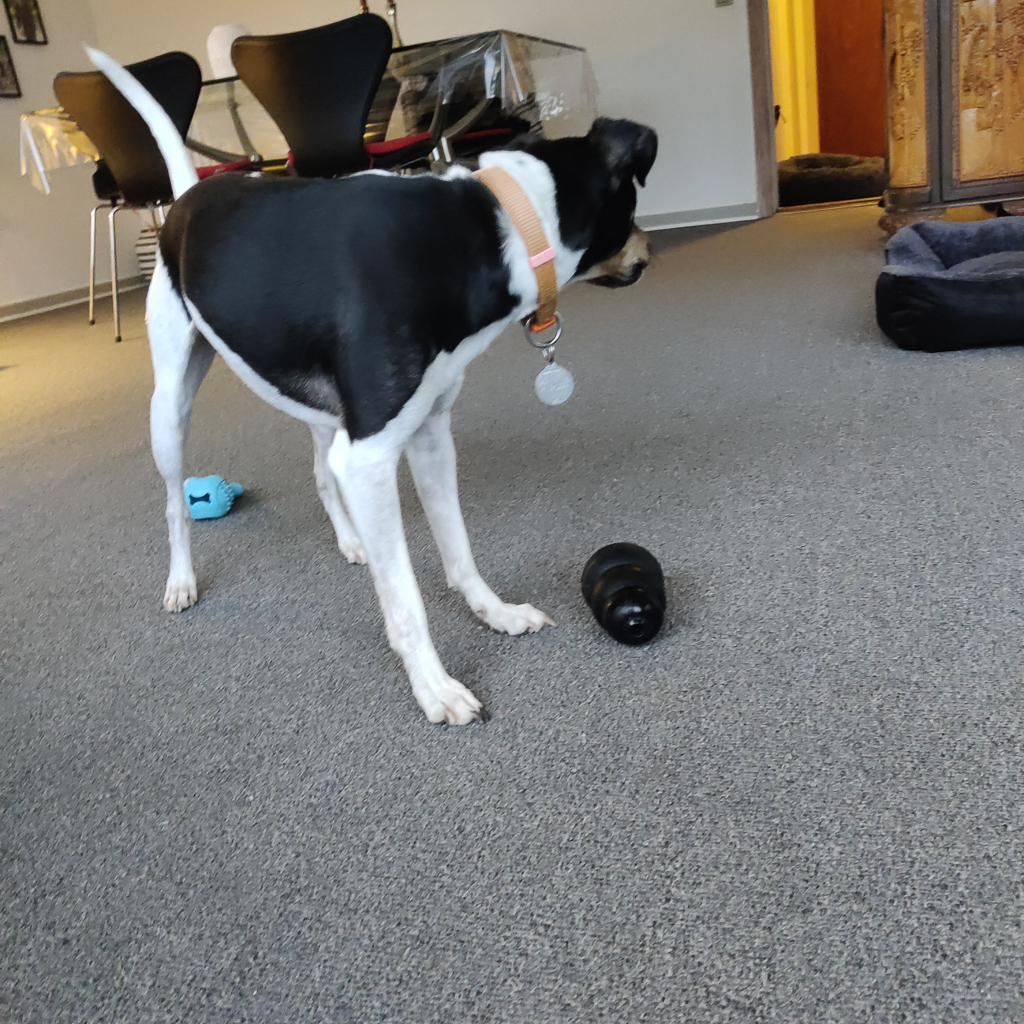Dog: (63, 14, 754, 749)
